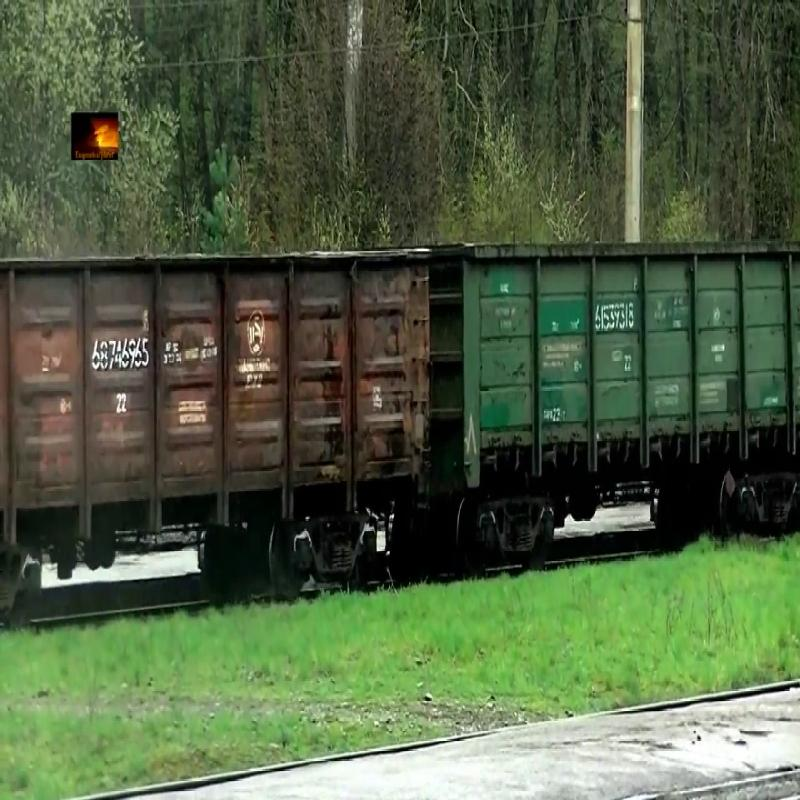train: (1, 246, 432, 534), (433, 245, 800, 490)
